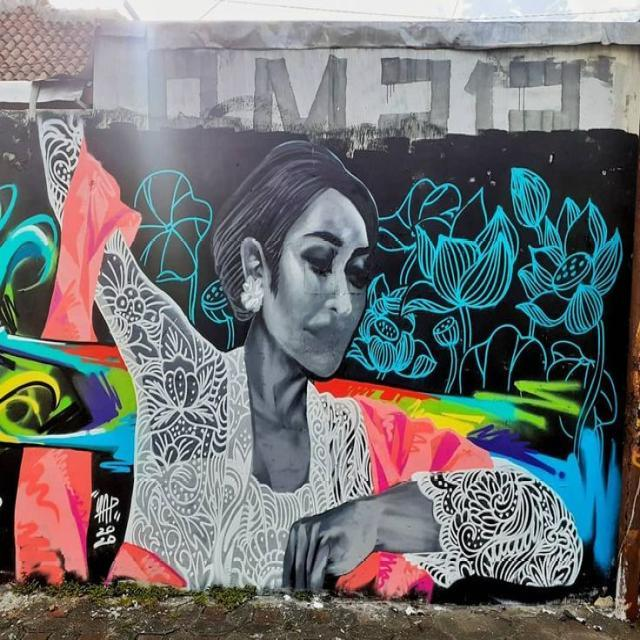-: (0, 109, 622, 597), (149, 41, 612, 129)
